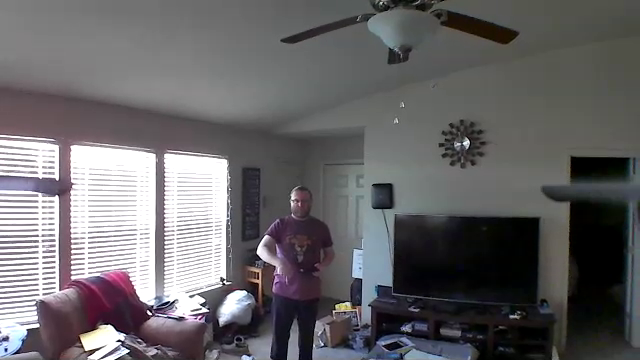down: (268, 257, 295, 291)
